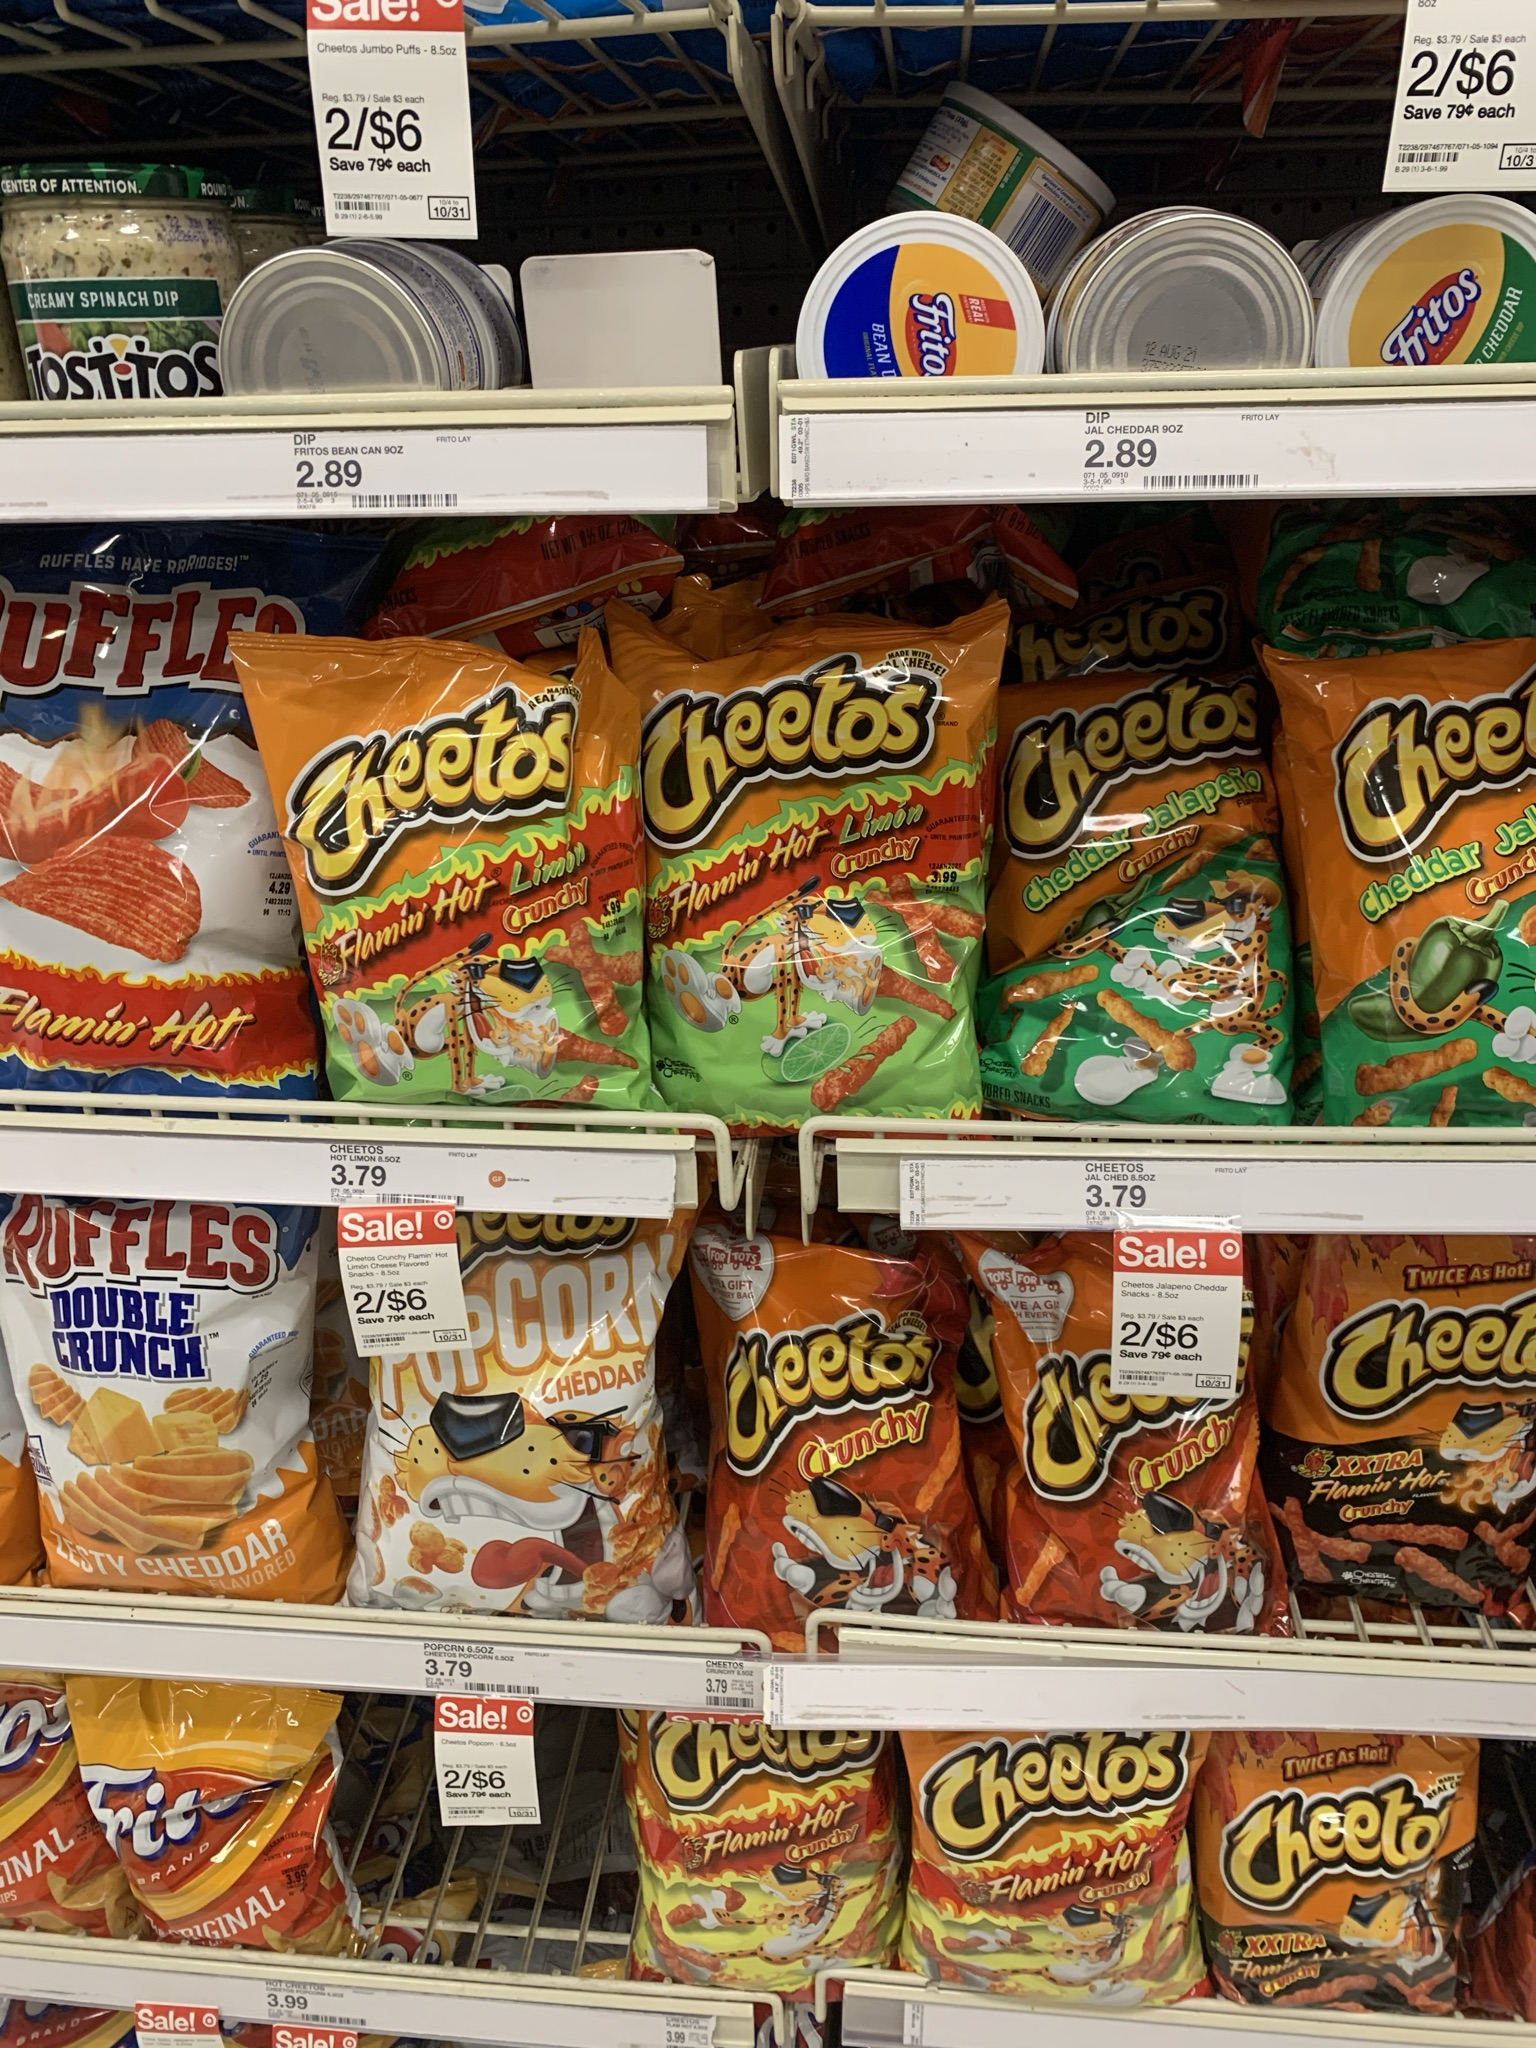Chips: (219, 622, 653, 1111), (650, 640, 979, 1118), (5, 1209, 349, 1622), (1004, 664, 1300, 1111), (353, 1250, 686, 1632), (712, 1240, 984, 1634), (997, 1243, 1271, 1629), (1299, 1243, 1536, 1640), (904, 1730, 1205, 2013), (1213, 1732, 1481, 2021), (629, 1729, 899, 1996)
